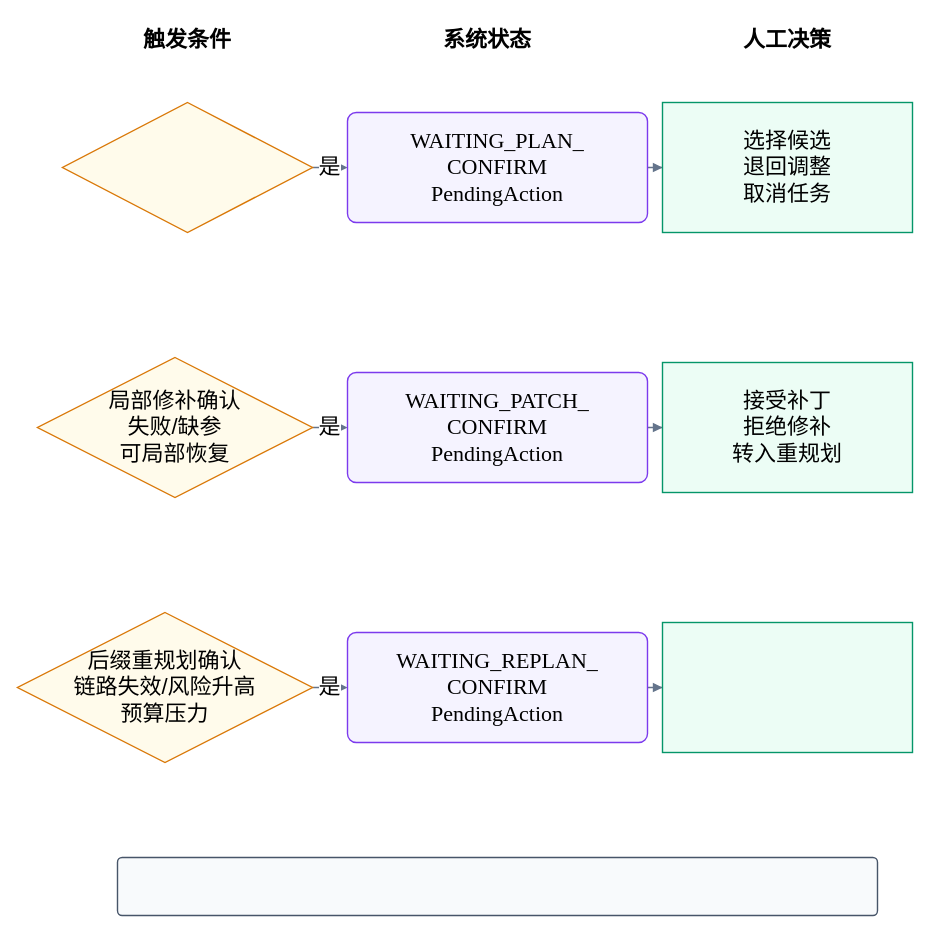
Some shapes in this 931 by 933 pixel diagram are drawn without their labels. Here are the shapes that lost their labels. From the top down, the centre of each, then its label:
At [187,167]: "候选确认 低置信/高成本 safety_warn".
At [787,687]: "接受后缀 选择 terminal_stop 继续等待".
At [497,886]: "等待态下 Executor 暂停执行，所有决策均需绑定合法任务、候选和 PendingAction 。".
